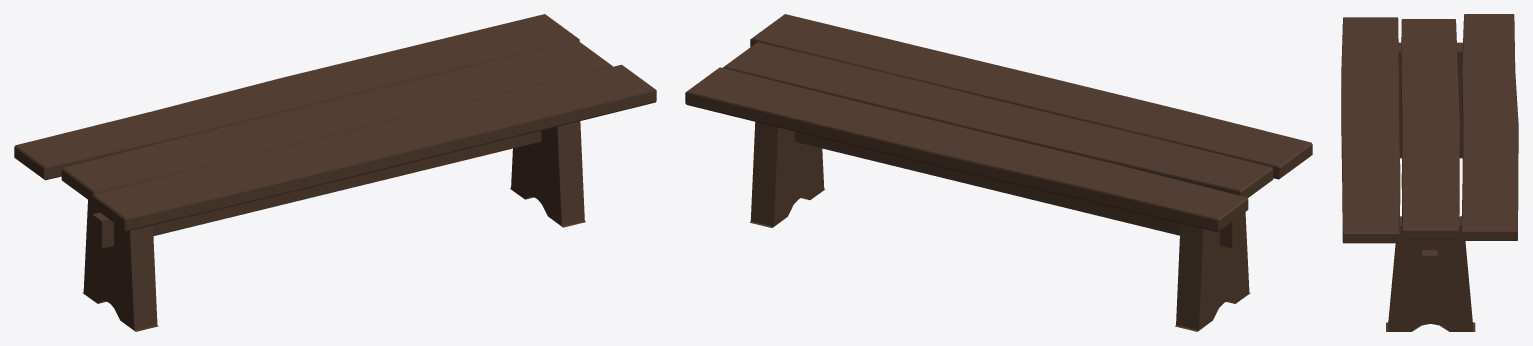
The model's file is Desk.fbx.
The picture shows the model from 3 angles, left to right: view 1: azimuth 30°, elevation 25°; view 2: azimuth 150°, elevation 25°; view 3: azimuth 270°, elevation 25°; orthographic projection. The views are drawn at different scales.
Visible parts, largest first — view 1: Desk; view 2: Desk; view 3: Desk.
Boxes of the visible parts, x1,y1,x2,y2 form: Desk: (14, 14, 656, 331); Desk: (685, 14, 1312, 331); Desk: (1341, 14, 1518, 331).
Bounding box in the file's own units: 2.01 × 0.5018 × 0.6864.
